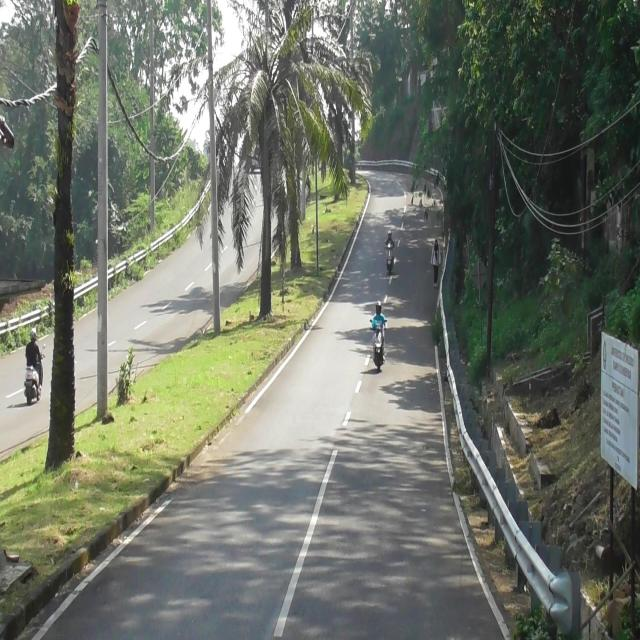motorcycle: (23, 362, 44, 404), (374, 326, 386, 373), (386, 244, 395, 273)
person: (25, 327, 42, 386), (372, 301, 386, 329), (385, 231, 395, 248)
rider_region: (22, 323, 43, 402), (370, 302, 386, 369), (386, 229, 395, 275)
